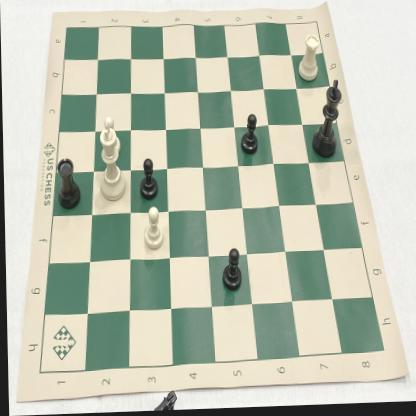black-king: (307, 75, 345, 167)
black-pawn: (216, 244, 245, 299), (236, 106, 262, 164), (134, 150, 160, 205)
black-rook: (47, 149, 83, 213)
white-king: (89, 122, 129, 206)
white-pawn: (140, 205, 168, 256), (97, 114, 124, 163)
white-rook: (293, 32, 322, 90)
